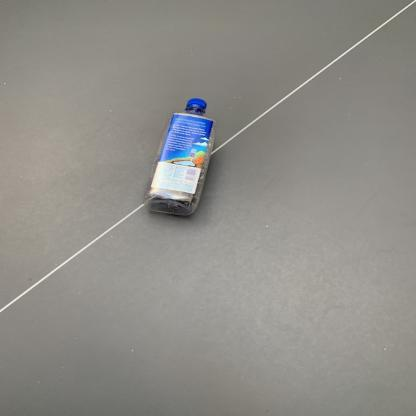trash: (145, 93, 218, 220)
